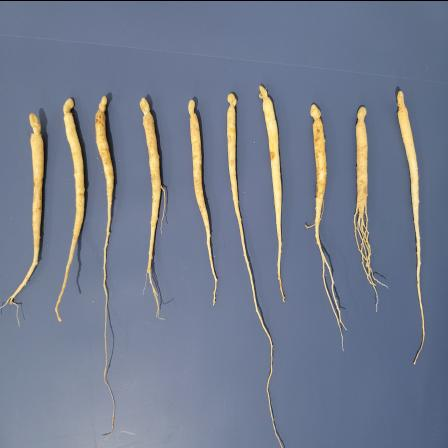Ginseng: (304, 99, 348, 352), (0, 111, 46, 328), (393, 86, 426, 364), (93, 92, 119, 435), (352, 102, 392, 312), (52, 94, 88, 324), (224, 91, 258, 311), (186, 94, 220, 310), (134, 93, 166, 321), (256, 82, 287, 302)
head: (28, 112, 42, 141), (139, 96, 154, 121), (62, 97, 76, 119), (309, 102, 324, 122), (187, 97, 199, 121), (96, 94, 108, 117), (258, 83, 274, 100), (226, 92, 238, 114), (396, 89, 407, 113), (356, 104, 368, 125)
